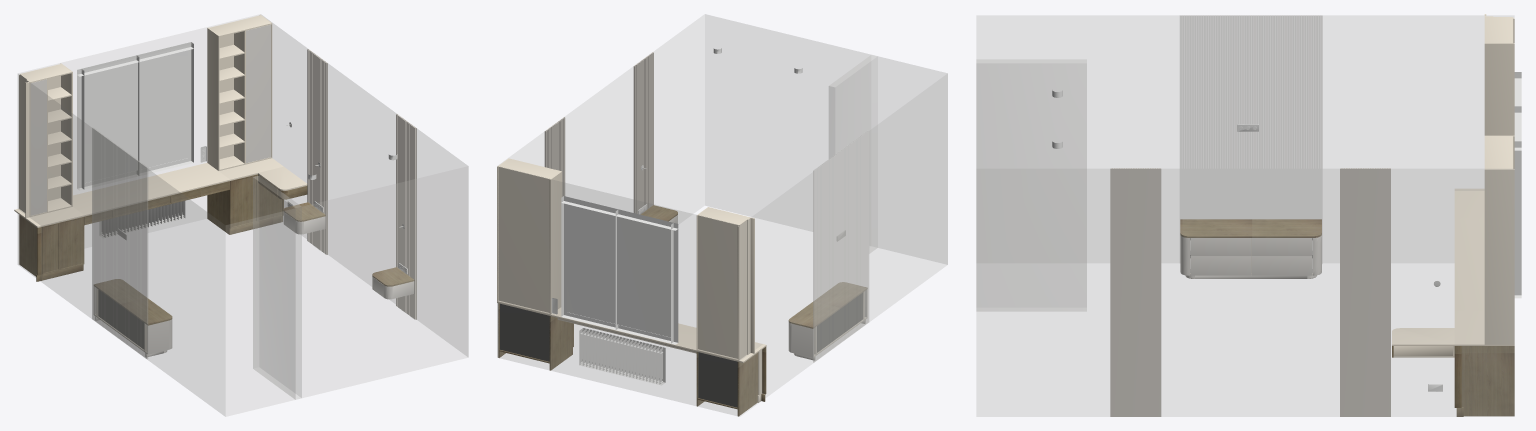
3 views of the same model, side by side, from view 1: azimuth 30°, elevation 25°; view 2: azimuth 150°, elevation 25°; view 3: azimuth 270°, elevation 25° (orthographic). The views are drawn at different scales.
Parts seen in each view (by area): view 1: r6, r7, r5, r11, r8, r23, r9, r19, r15, p35, p182, p123 (+28 smaller); view 2: r6, r7, r5, r11, r8, r1, r2, r23, p183, r3, p122, r9 (+18 smaller); view 3: r5, r6, r23, r9, r19, r15, p171, p79, p35, p109, p283, r11 (+11 smaller).
Boxes of the visible parts, left/top/right/bottom form: r6: left=18, top=74, right=225, bottom=415; r7: left=302, top=166, right=468, bottom=397; r5: left=262, top=15, right=467, bottom=356; r11: left=77, top=42, right=193, bottom=190; r8: left=226, top=209, right=295, bottom=416; r23: left=92, top=127, right=147, bottom=359; r9: left=253, top=176, right=301, bottom=399; r19: left=396, top=114, right=416, bottom=319; r15: left=307, top=49, right=327, bottom=254; p35: left=73, top=163, right=230, bottom=216; p182: left=246, top=24, right=270, bottom=163; p123: left=30, top=79, right=46, bottom=215; r6: left=740, top=74, right=947, bottom=416; r7: left=705, top=14, right=870, bottom=231; r5: left=497, top=14, right=704, bottom=356; r11: left=561, top=196, right=678, bottom=344; r8: left=878, top=56, right=947, bottom=264; r1: left=497, top=166, right=563, bottom=373; r2: left=678, top=211, right=739, bottom=416; r23: left=813, top=131, right=868, bottom=362; p183: left=498, top=166, right=550, bottom=312; r3: left=564, top=320, right=677, bottom=401; p122: left=698, top=215, right=738, bottom=358; r9: left=829, top=55, right=877, bottom=253; r5: left=976, top=169, right=1514, bottom=416; r6: left=976, top=15, right=1514, bottom=262; r23: left=1180, top=15, right=1322, bottom=263; r9: left=976, top=59, right=1086, bottom=311; r19: left=1110, top=168, right=1161, bottom=416; r15: left=1340, top=168, right=1390, bottom=416; p171: left=1484, top=169, right=1514, bottom=344; p79: left=1461, top=346, right=1514, bottom=416; p35: left=1454, top=218, right=1484, bottom=310; p109: left=1484, top=43, right=1514, bottom=135; p283: left=1180, top=219, right=1321, bottom=237; r11: left=1514, top=72, right=1521, bottom=298.
Size of the model in its own units: 3.7 by 2.75 by 5.47.
14 materials, 4 textured.
